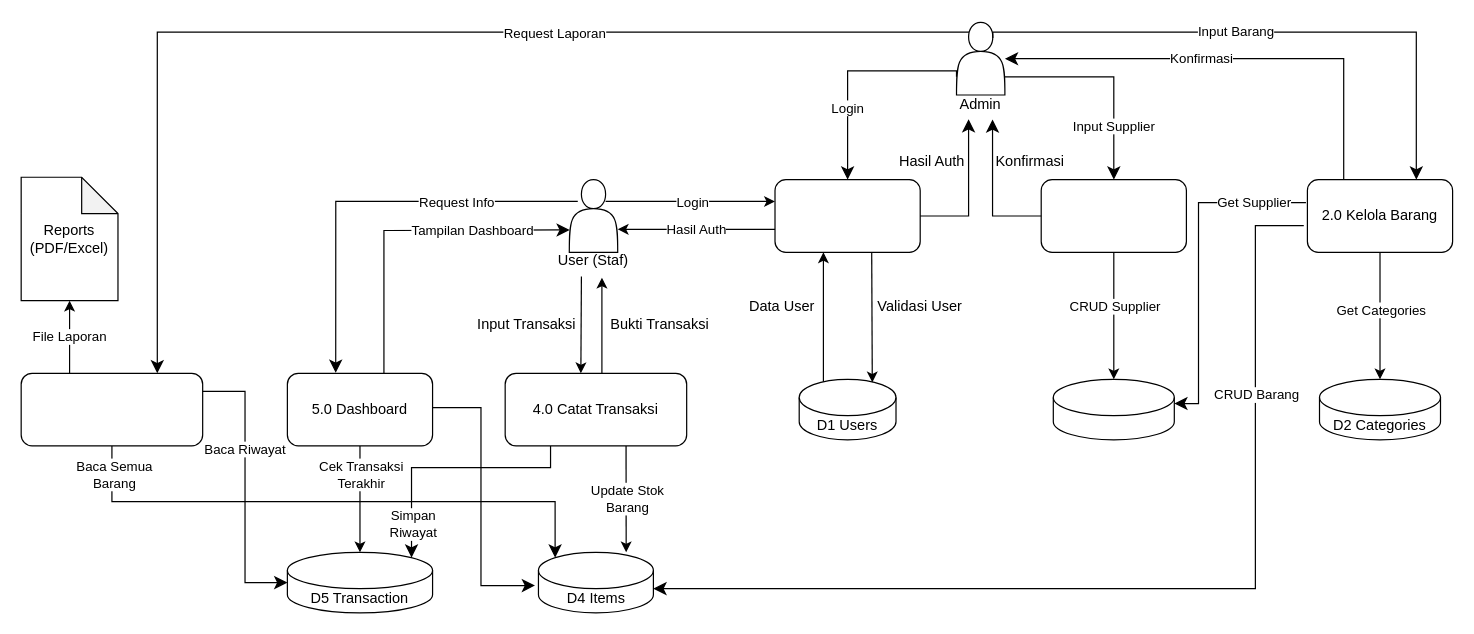
The diagram is 1474 pixels wide and 634 high, and some of its shapes have lost their labels. Each missing label, with the centre of its shape:
"1.0 Login & Auth" belongs at pixel 847 215.
"3.0 Kelola Supplier" belongs at pixel 1113 215.
"6.0 Generate Laporan" belongs at pixel 111 409.
"D3 Suppliers" belongs at pixel 1113 409.
